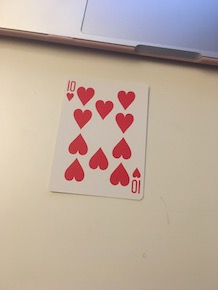TenOfHearts: (45, 72, 157, 200)
